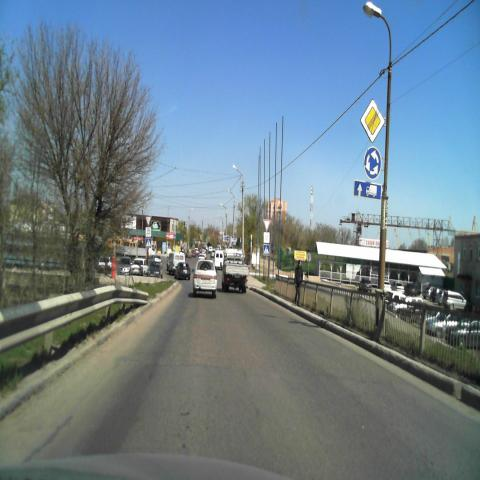2_2: (360, 99, 385, 143)
4_3: (363, 146, 382, 180)
6_15_1: (354, 180, 381, 201)
